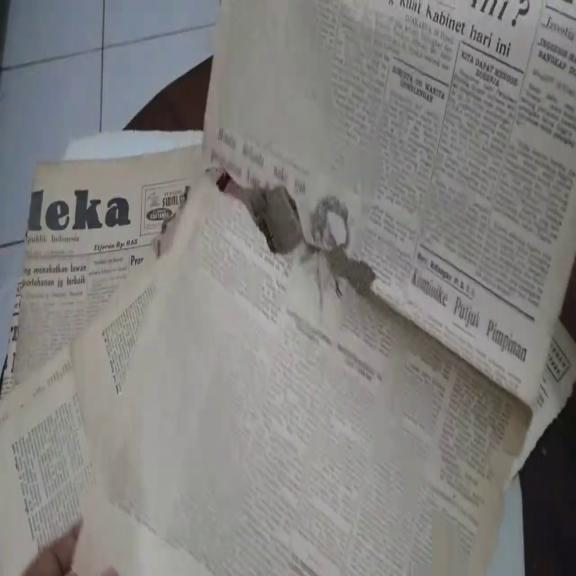Kertas: (26, 168, 211, 576)
